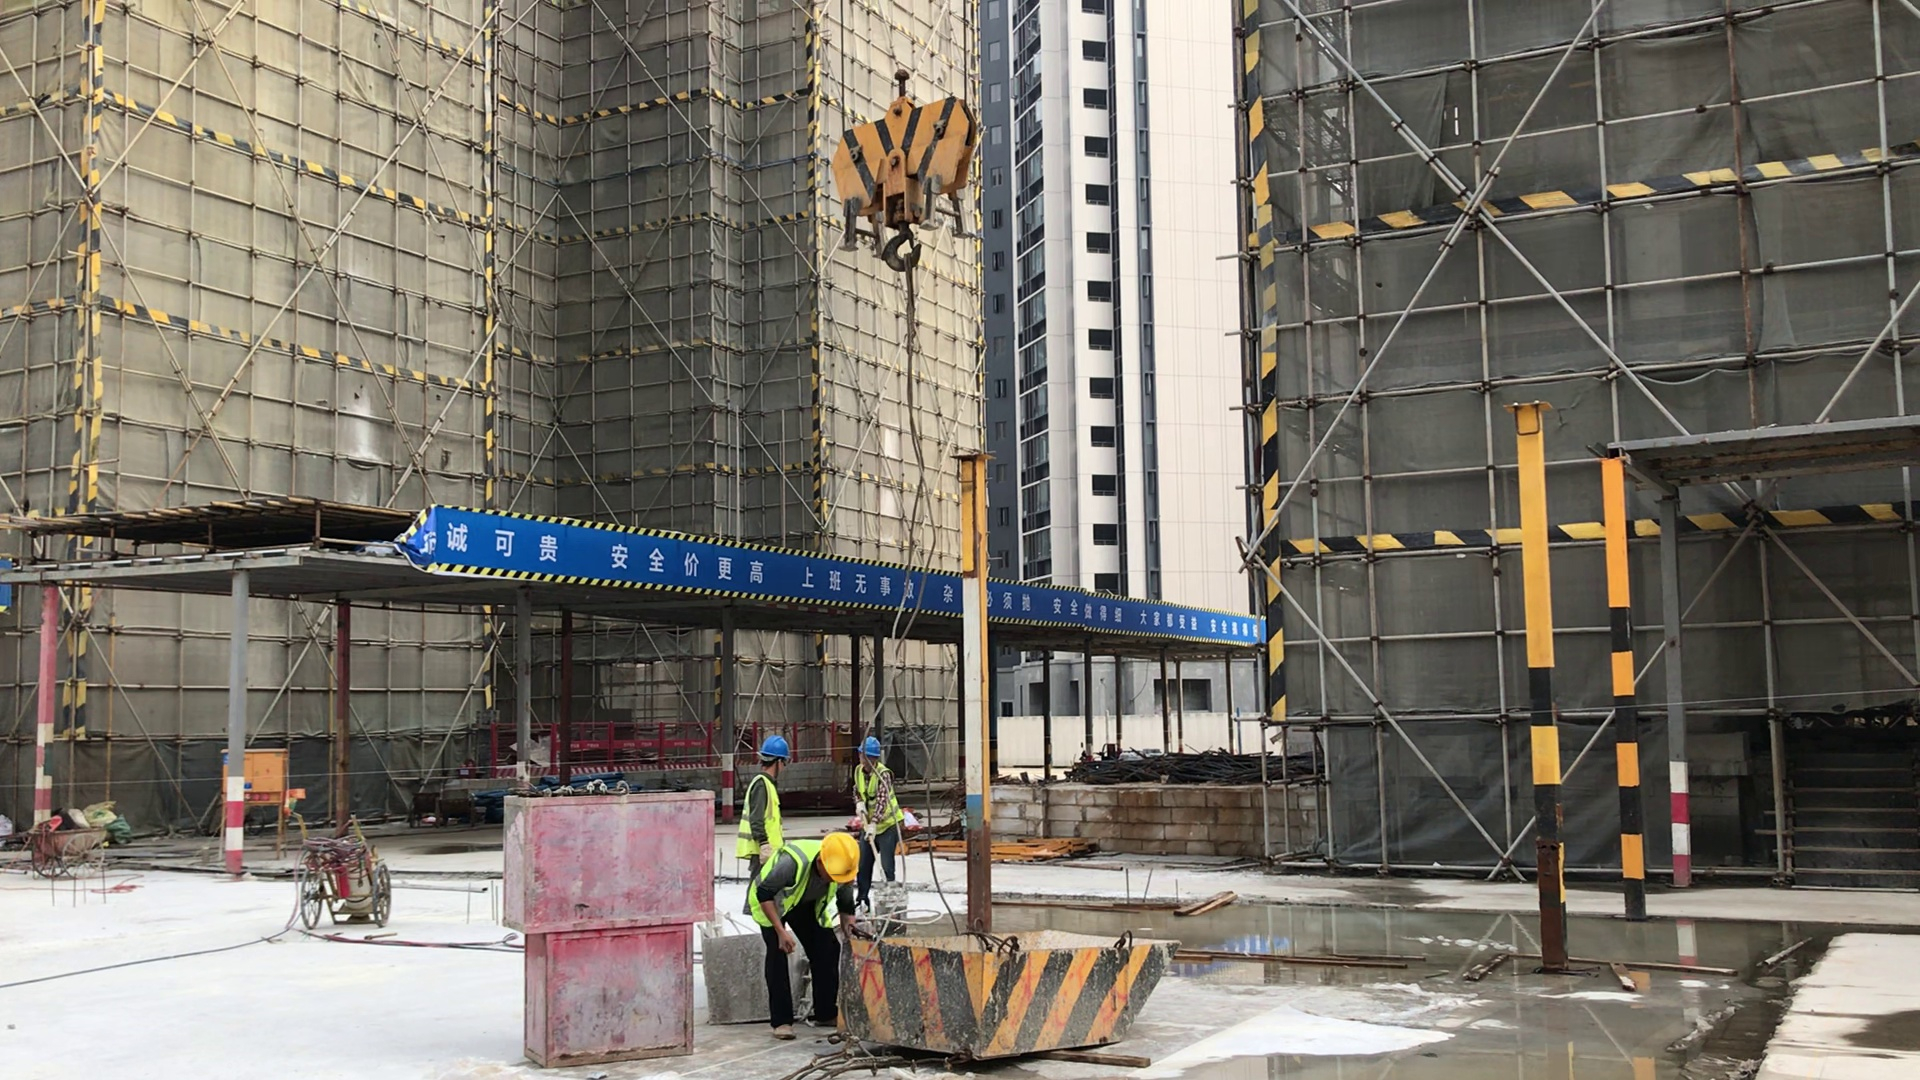ebox: (245, 741, 297, 856)
fence: (434, 506, 951, 615), (992, 583, 1256, 638), (577, 719, 715, 769), (797, 719, 846, 759)
handcart: (292, 812, 399, 931), (1, 826, 110, 887)
helmet: (820, 830, 859, 884), (757, 737, 789, 762), (857, 738, 883, 760)
hook: (830, 69, 978, 269)
hopper: (845, 923, 1178, 1065), (697, 922, 769, 1027)
person: (744, 830, 863, 1041), (850, 735, 903, 910), (737, 735, 789, 861)
vest: (749, 838, 838, 933), (737, 774, 784, 862), (851, 764, 904, 834)
